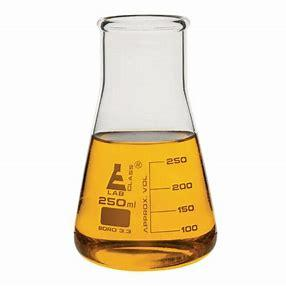Titrarion: (65, 15, 220, 268)
